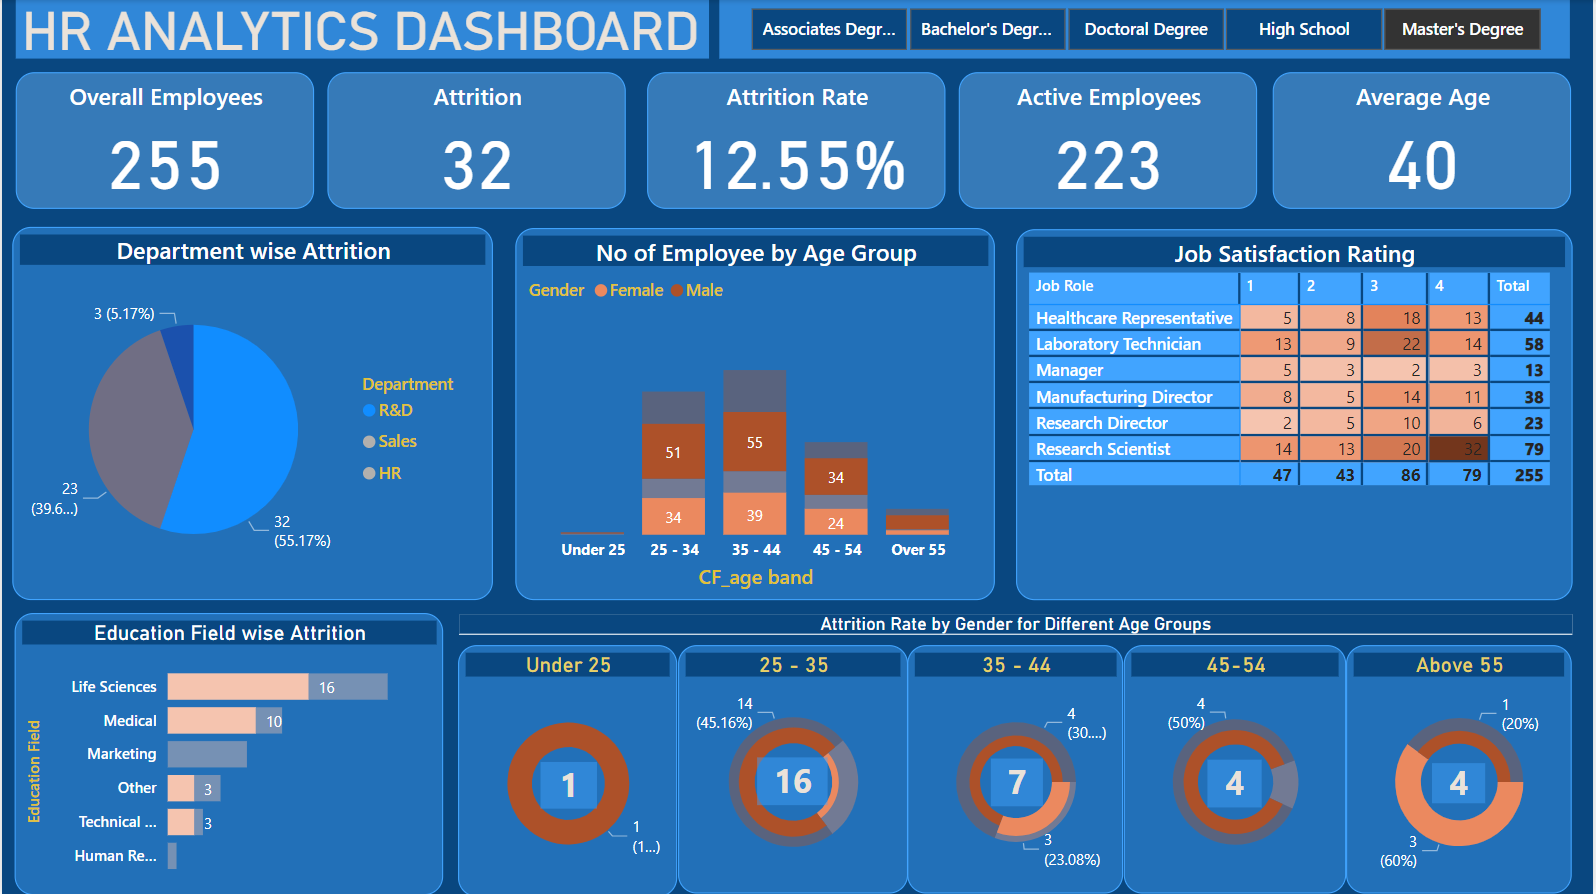

This screenshot's page, from the dashboard's own definition file:
{"tool":"powerbi","page":{"name":"Page 1","canvas":[1280,720],"ordinal":0},"visuals":[{"type":"card","title":"Overall Employees","fields":{"Values":["Sum(HR data.Employee Count)"]},"box":[11,57.6,240.1,109.8],"z":0},{"type":"card","title":"Attrition","fields":{"Values":["Sum(HR data.Attrition Count)"]},"box":[262.1,57.6,240.1,109.8],"z":1000},{"type":"card","title":"Attrition Rate","fields":{"Values":["HR data.Attrition Rate"]},"box":[518.7,57.6,240.1,109.8],"z":2000},{"type":"card","title":"Active Employees","fields":{"Values":["HR data.Active Employees"]},"box":[769.8,57.6,240.1,109.8],"z":3000},{"type":"card","title":"Average Age","fields":{"Values":["Avg(HR data.Age)"]},"box":[1022.3,57.6,240.1,109.8],"z":4000},{"type":"pieChart","title":"Department wise Attrition","fields":{"Category":["HR data.Department"],"Y":["Sum(HR data.Attrition Count)"]},"box":[8.7,182,386.5,300.5],"z":5000},{"type":"columnChart","title":"No of Employee by Age Group","fields":{"Y":["Sum(HR data.Employee Count)"],"Series":["HR data.Gender"],"Category":["HR data.CF_age band"]},"box":[413,183.4,386.1,299.7],"z":6000},{"type":"pivotTable","title":"Job Satisfaction Rating","fields":{"Rows":["HR data.Job Role"],"Columns":["HR data.Job Satisfaction"],"Values":["Sum(HR data.Employee Count)"]},"box":[817,184.9,445.8,298.2],"z":7000},{"type":"barChart","title":"Education Field wise Attrition","fields":{"Category":["HR data.Education Field"],"Y":["Sum(HR data.Attrition Count)"]},"box":[10.4,493.5,345,227],"z":8000},{"type":"donutChart","title":"Under 25","fields":{"Category":["HR data.Gender"],"Y":["Sum(HR data.Attrition Count)"],"Series":["HR data.CF_age band"]},"box":[367.1,518.7,176.5,202.5],"z":9000},{"type":"textbox","title":"Attrition Rate by Gender for Different Age Groups","box":[367.8,493.7,895.2,16.2],"z":9001},{"type":"donutChart","title":"25 - 35","fields":{"Category":["HR data.Gender"],"Y":["Sum(HR data.Attrition Count)"],"Series":["HR data.CF_age band"]},"box":[543.6,518.7,184.8,200.1],"z":9002},{"type":"donutChart","title":"35 - 44","fields":{"Category":["HR data.Gender"],"Y":["Sum(HR data.Attrition Count)"],"Series":["HR data.CF_age band"]},"box":[728.4,518.7,174.1,200.1],"z":9003},{"type":"donutChart","title":"45-54","fields":{"Category":["HR data.Gender"],"Y":["Sum(HR data.Attrition Count)"],"Series":["HR data.CF_age band"]},"box":[902.4,518.7,178.8,200.1],"z":9004},{"type":"donutChart","title":"Above 55","fields":{"Category":["HR data.Gender"],"Y":["Sum(HR data.Attrition Count)"],"Series":["HR data.CF_age band"]},"box":[1081.3,518.7,181.2,200.1],"z":9005},{"type":"card","fields":{"Values":["Sum(HR data.Attrition Count)"]},"box":[433.1,612.8,45.2,37.2],"z":9006},{"type":"card","fields":{"Values":["Sum(HR data.Attrition Count)"]},"box":[610.2,612,57.6,32.8],"z":9007},{"type":"card","fields":{"Values":["Sum(HR data.Attrition Count)"]},"box":[795.3,610.2,41.6,38.1],"z":9008},{"type":"card","fields":{"Values":["Sum(HR data.Attrition Count)"]},"box":[969.7,611.1,43.4,38.1],"z":9009},{"type":"card","fields":{"Values":["Sum(HR data.Attrition Count)"]},"box":[1150.4,613.7,42.5,31.9],"z":9010},{"type":"textbox","title":"HR ANALYTICS DASHBOARD","box":[11.2,0,557.3,47.4],"z":9011},{"type":"slicer","fields":{"Values":["HR data.Education"]},"box":[577.3,0,684.5,47.4],"z":9012}]}

Visuals, with their boxes in screenshot pixels (x1, y1, x2, y2), scaled from the page's 1280x720 canvas onto the 1596x894 screenshot:
"Overall Employees" card: 14,72,313,208
"Attrition" card: 327,72,626,208
"Attrition Rate" card: 647,72,946,208
"Active Employees" card: 960,72,1259,208
"Average Age" card: 1275,72,1574,208
"Department wise Attrition" pieChart: 11,226,493,599
"No of Employee by Age Group" columnChart: 515,228,996,600
"Job Satisfaction Rating" pivotTable: 1019,230,1575,600
"Education Field wise Attrition" barChart: 13,613,443,893
"Under 25" donutChart: 458,644,678,893
"Attrition Rate by Gender for Different Age Groups" textbox: 459,613,1575,633
"25 - 35" donutChart: 678,644,908,893
"35 - 44" donutChart: 908,644,1125,893
"45-54" donutChart: 1125,644,1348,893
"Above 55" donutChart: 1348,644,1574,893
card - Sum(HR data.Attrition Count): 540,761,596,807
card - Sum(HR data.Attrition Count): 761,760,833,801
card - Sum(HR data.Attrition Count): 992,758,1044,805
card - Sum(HR data.Attrition Count): 1209,759,1263,806
card - Sum(HR data.Attrition Count): 1434,762,1487,802
"HR ANALYTICS DASHBOARD" textbox: 14,0,709,59
slicer - HR data.Education: 720,0,1573,59
